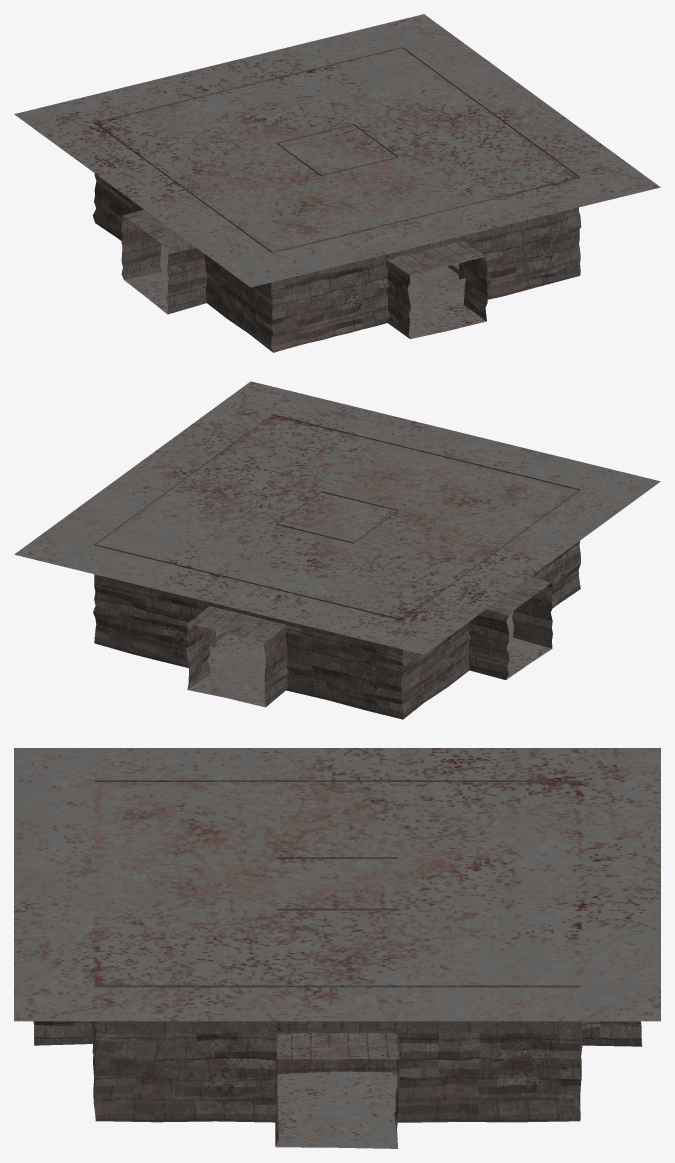
Rendered from RuinsTile01.glb.
3 renders of one model, top to bottom at view 1: azimuth 30°, elevation 25°; view 2: azimuth 150°, elevation 25°; view 3: azimuth 270°, elevation 25°, orthographic. The views are drawn at different scales.
Visible parts, largest first — view 1: Grid; view 2: Grid; view 3: Grid.
Part boxes in pixels (box(x1,y1,x2,y2)): Grid: box(14, 14, 660, 352); Grid: box(14, 381, 660, 719); Grid: box(14, 748, 660, 1148).
Bounding box in the file's own units: 39.87 × 11.25 × 39.87.
1 material, 1 textured.
